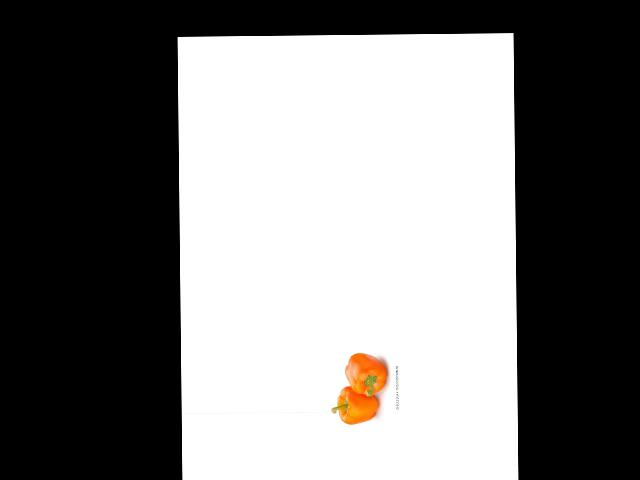bell_pepper: (343, 351, 391, 398)
